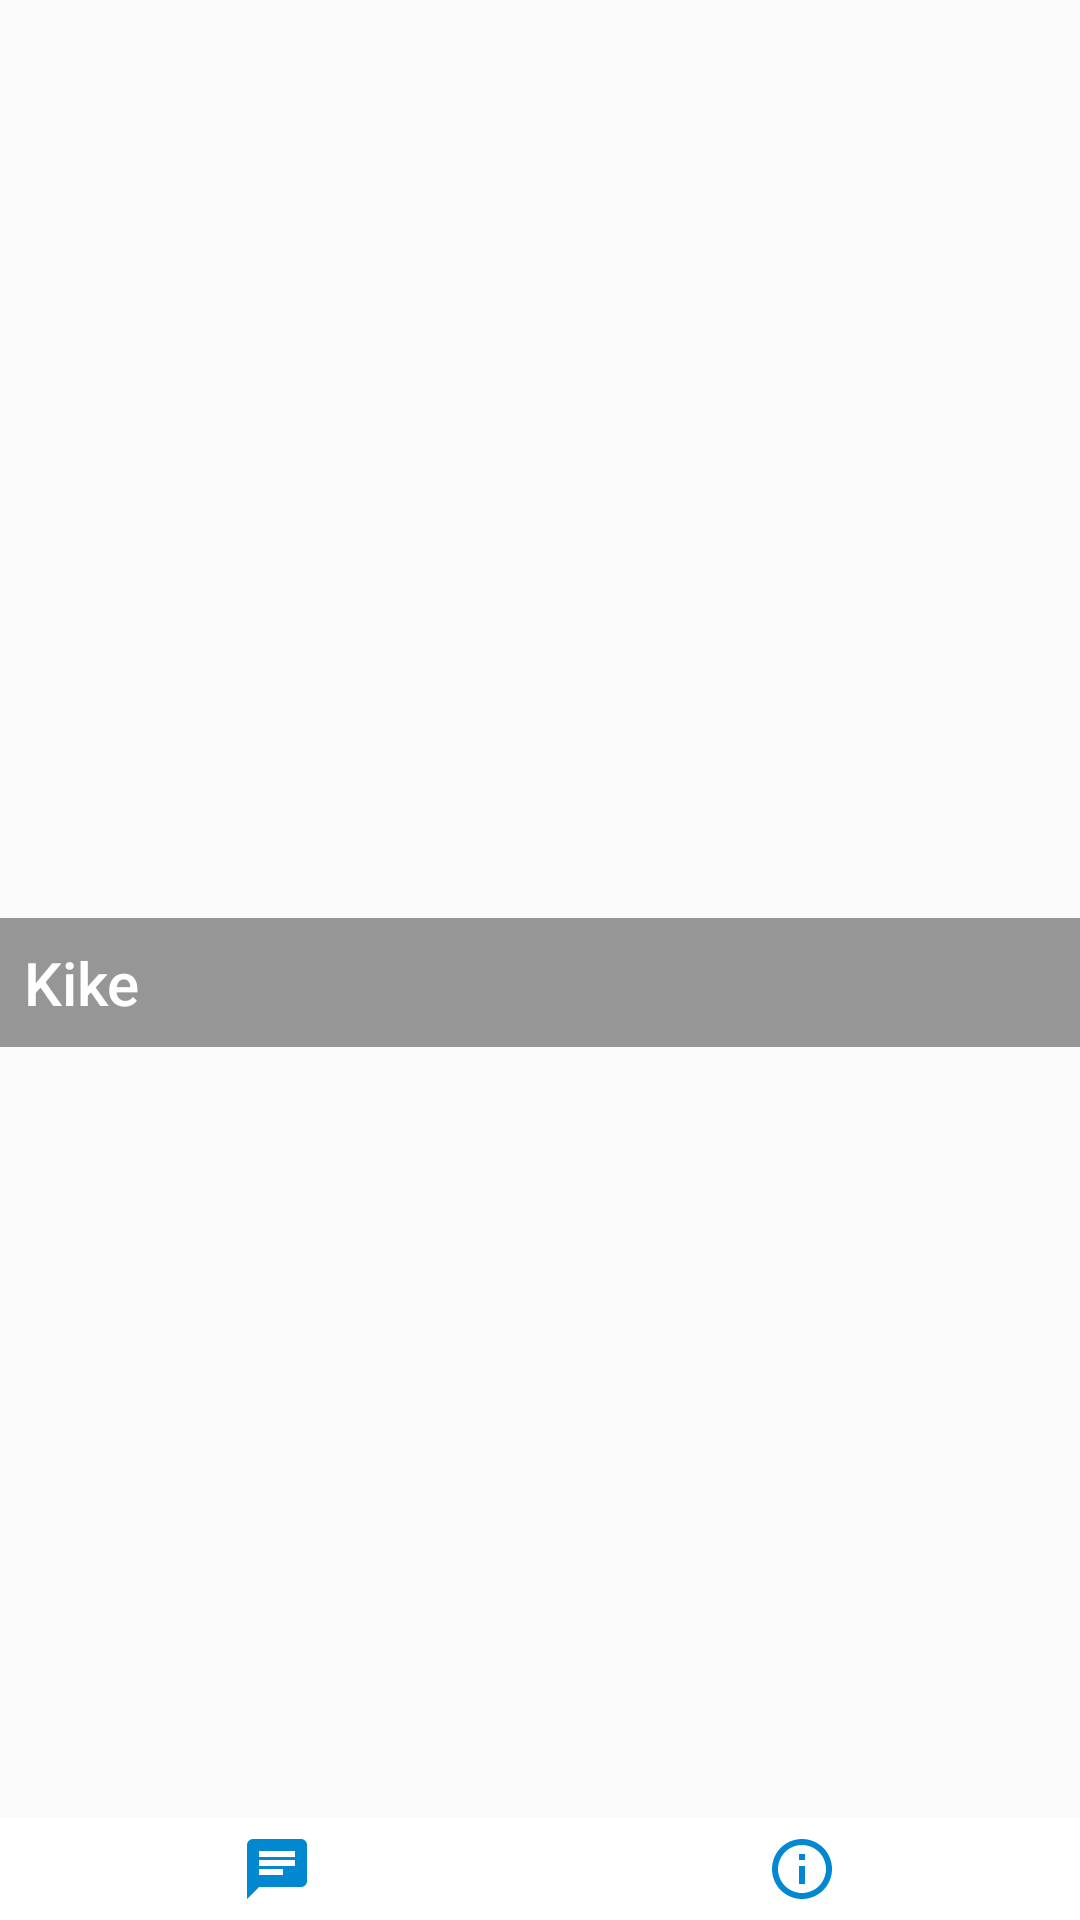

Icon click points for this 1080px×1920px phone screenshot, format (x,y):
chat: (277,1869)
